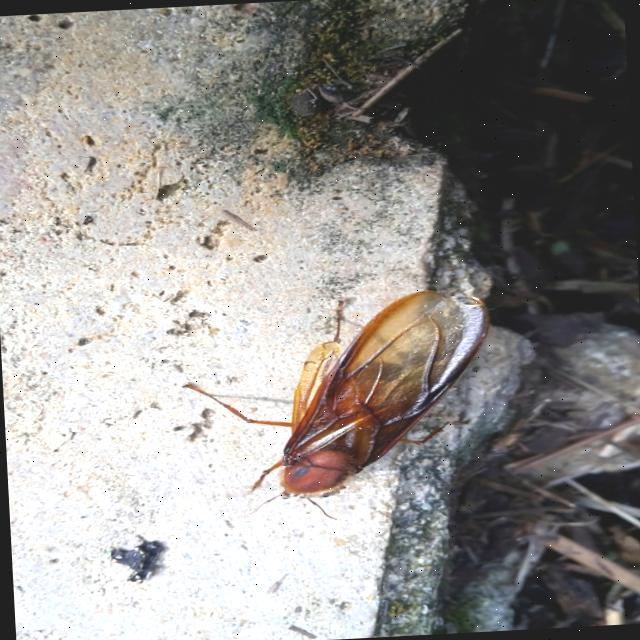Alive-Male-Alate: (176, 286, 502, 529)
